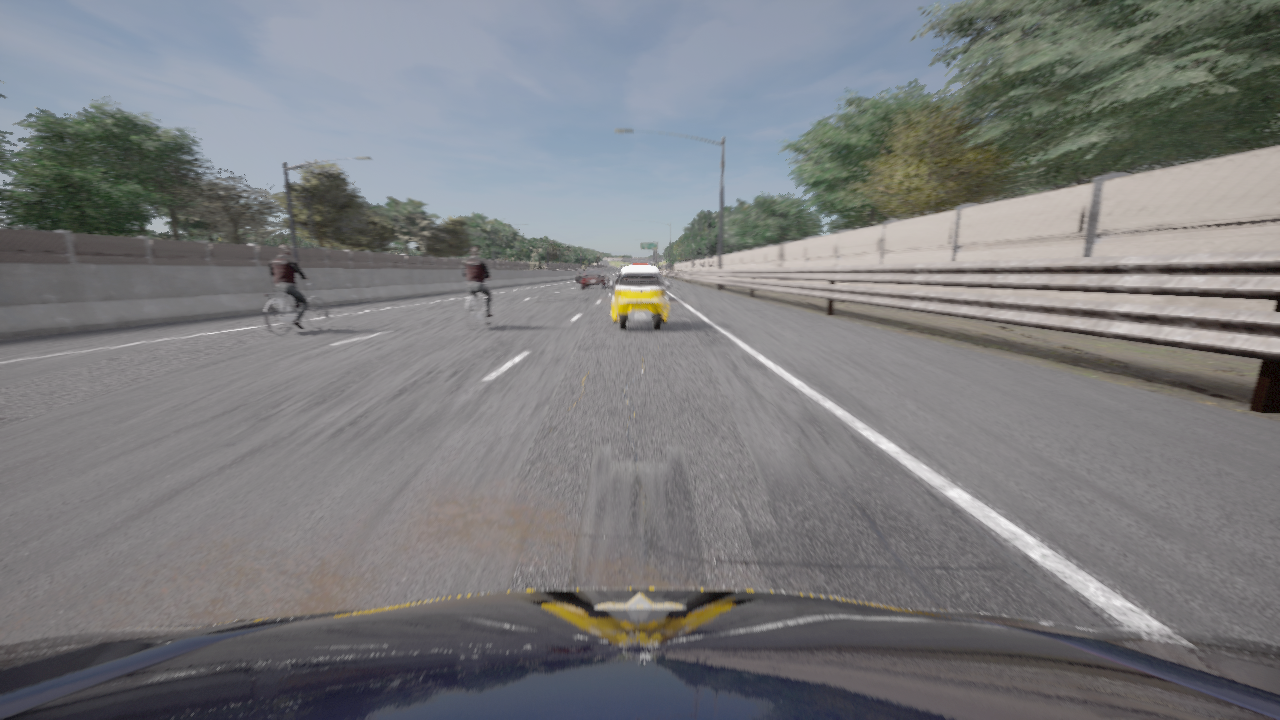cyclist: (0, 588, 1279, 719), (609, 266, 670, 330), (264, 278, 327, 335), (465, 282, 492, 330), (581, 269, 608, 288), (631, 262, 648, 265), (615, 274, 619, 283), (576, 273, 580, 282), (618, 275, 619, 276)
